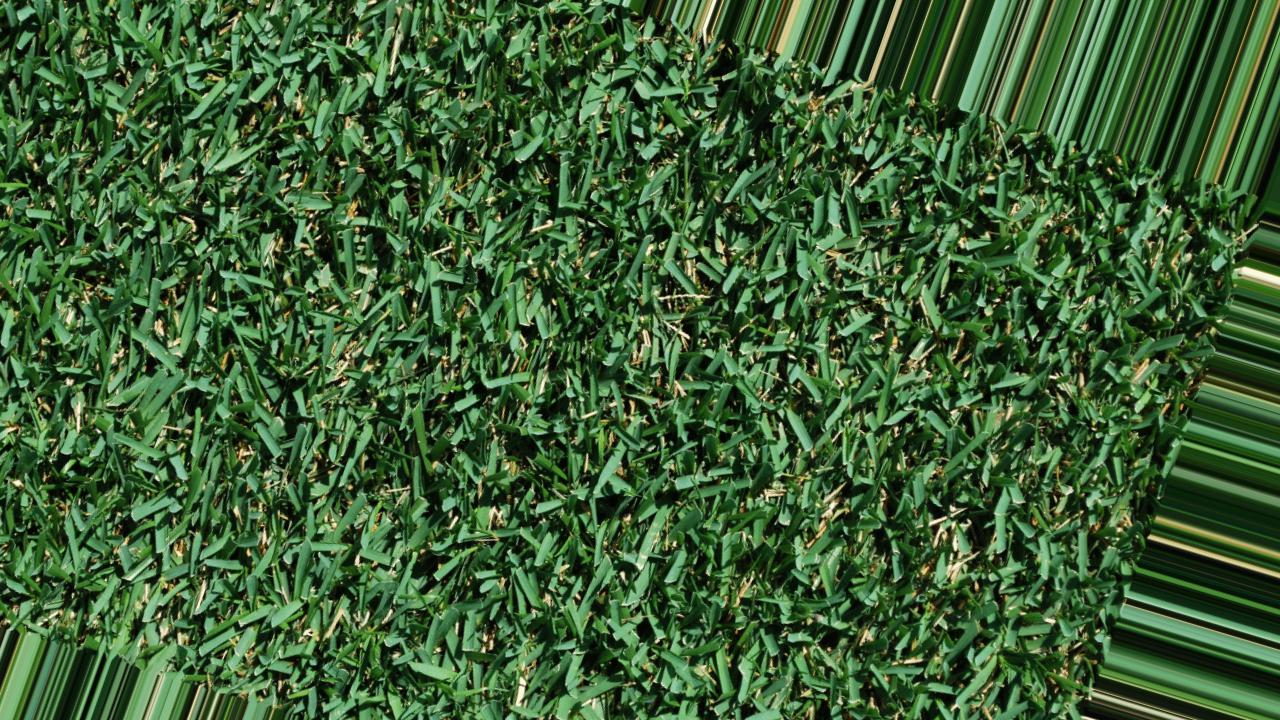patch: (230, 72, 425, 167), (1019, 189, 1144, 336), (682, 204, 772, 293), (132, 274, 217, 367), (815, 231, 892, 329), (749, 474, 885, 527), (353, 475, 483, 526), (623, 325, 704, 404), (896, 510, 963, 585), (329, 339, 369, 382)
